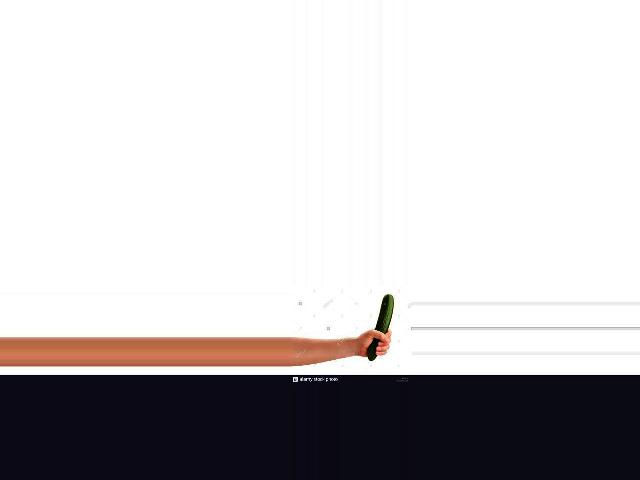cucumber: (368, 294, 394, 361)
